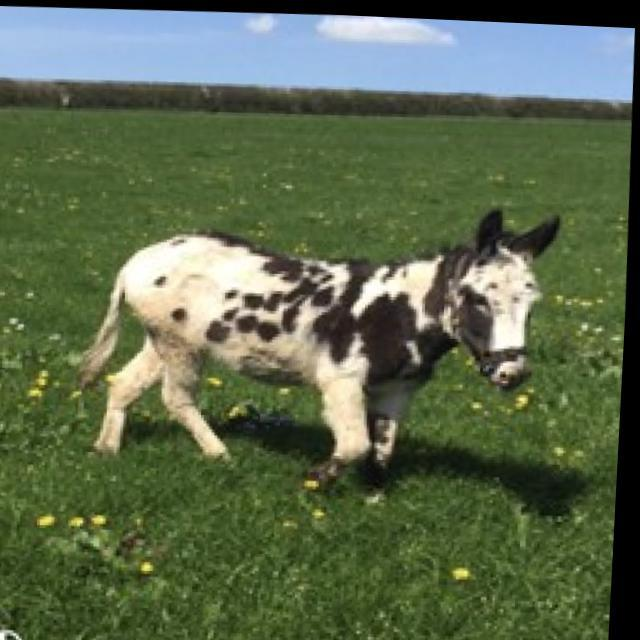Donkey: (72, 184, 570, 509)
